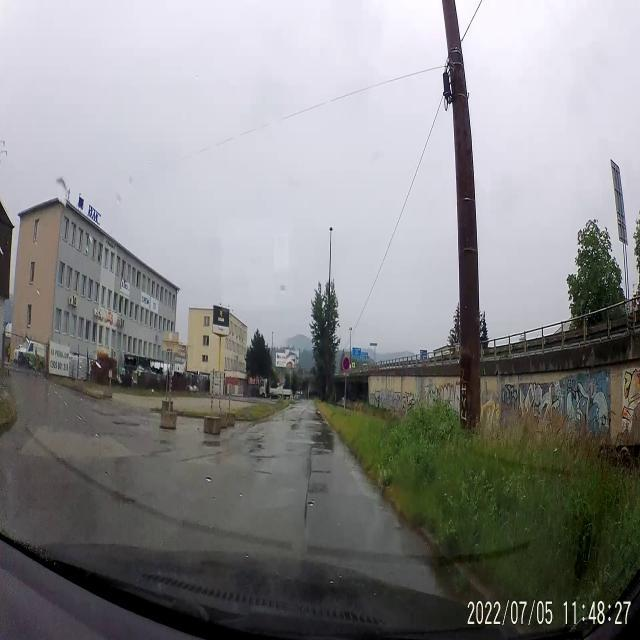Pothole: (298, 486, 320, 524), (246, 434, 276, 461), (253, 466, 275, 480), (309, 466, 333, 478)
